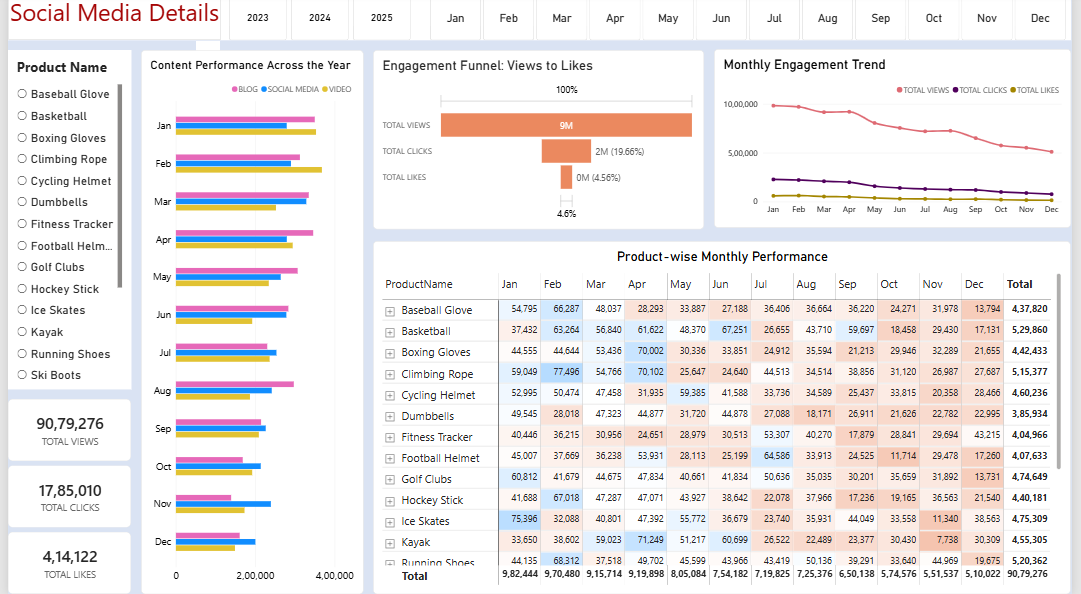

This screenshot's page, from the dashboard's own definition file:
{"tool":"powerbi","page":{"name":"Social Media Details","canvas":[1920,1080],"ordinal":2},"visuals":[{"type":"shape","box":[0,0,1920,80],"z":0},{"type":"listSlicer","title":"Product Name","fields":{"Values":["dim_products.ProductName"]},"box":[0,97.5,222.5,612.5],"z":1000},{"type":"cardVisual","fields":{"Data":["dim_customers.TOTAL VIEWS","dim_customers.TOTAL CLICKS","dim_customers.TOTAL LIKES"]},"box":[0,727.5,222.5,352.5],"z":2000},{"type":"advancedSlicerVisual","fields":{"Values":["Calendar.Year"]},"box":[400,0,328,80],"z":3000},{"type":"advancedSlicerVisual","fields":{"Values":["Calendar.MonthNameShort"]},"box":[762,0,1158,80],"z":4000},{"type":"funnel","title":"Engagement Funnel: Views to Likes","fields":{"Y":["dim_customers.TOTAL VIEWS","dim_customers.TOTAL CLICKS","dim_customers.TOTAL LIKES"]},"box":[660,97.5,598,324],"z":5000},{"type":"lineChart","title":"Monthly Engagement Trend","fields":{"Category":["Calendar.MonthNameShort"],"Y":["dim_customers.TOTAL VIEWS","dim_customers.TOTAL CLICKS","dim_customers.TOTAL LIKES"]},"box":[1275,95,645,322.5],"z":6000},{"type":"textbox","box":[0,0,384,80],"z":7000},{"type":"clusteredBarChart","title":"Content Performance Across the Year","fields":{"Category":["Calendar.MonthNameShort"],"Y":["dim_customers.TOTAL VIEWS"],"Series":["Fact_engagement_data.ContentType"]},"box":[240,97.5,401.7,983.3],"z":8000},{"type":"pivotTable","title":"Product-wise Monthly Performance","fields":{"Rows":["dim_products.ProductName","Fact_engagement_data.ContentType"],"Columns":["Calendar.MonthNameShort"],"Values":["dim_customers.TOTAL VIEWS"]},"box":[660,442.5,1260,637.5],"z":9000}]}

Visuals, with their boxes in screenshot pixels (x1, y1, x2, y2), scaled from the page's 1920x1080 canvas onto the 1081x594 screenshot:
shape: [left=0, top=0, right=1080, bottom=44]
"Product Name" listSlicer: [left=0, top=54, right=125, bottom=391]
cardVisual - dim_customers.TOTAL VIEWS x dim_customers.TOTAL CLICKS: [left=0, top=400, right=125, bottom=593]
advancedSlicerVisual - Calendar.Year: [left=225, top=0, right=410, bottom=44]
advancedSlicerVisual - Calendar.MonthNameShort: [left=429, top=0, right=1080, bottom=44]
"Engagement Funnel: Views to Likes" funnel: [left=372, top=54, right=708, bottom=232]
"Monthly Engagement Trend" lineChart: [left=718, top=52, right=1080, bottom=230]
textbox: [left=0, top=0, right=216, bottom=44]
"Content Performance Across the Year" clusteredBarChart: [left=135, top=54, right=361, bottom=593]
"Product-wise Monthly Performance" pivotTable: [left=372, top=243, right=1080, bottom=593]
